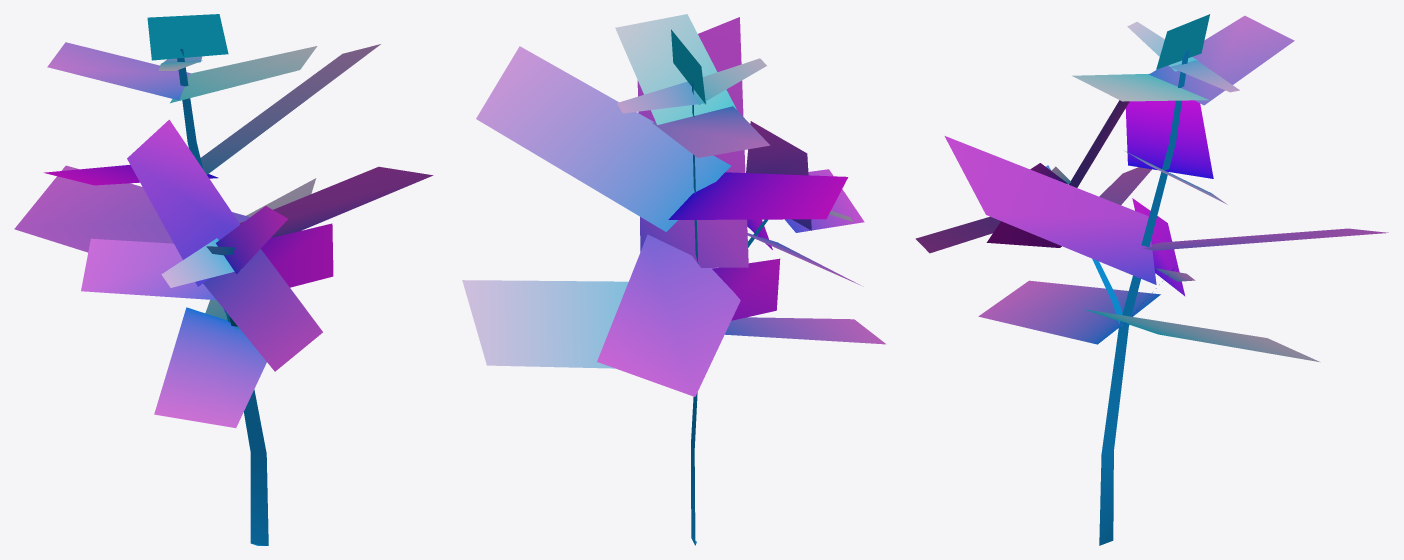
The model's file is Common_Hemp_Nettle_xh1kdfbqx_Mid_xh1kdfbqx_VarB_LOD2.fbx.
3 renders of one model, left to right at view 1: azimuth 30°, elevation 25°; view 2: azimuth 150°, elevation 25°; view 3: azimuth 270°, elevation 25°, orthographic. The views are drawn at different scales.
Parts seen in each view (by area): view 1: _ff3a_VarB_LOD4; view 2: _ff3a_VarB_LOD4; view 3: _ff3a_VarB_LOD4.
Boxes of the visible parts, <box> form: _ff3a_VarB_LOD4: <box>14,14,433,545</box>; _ff3a_VarB_LOD4: <box>462,14,885,545</box>; _ff3a_VarB_LOD4: <box>915,14,1388,545</box>.
Size of the model in its own units: 51.41 by 79.42 by 67.3.
